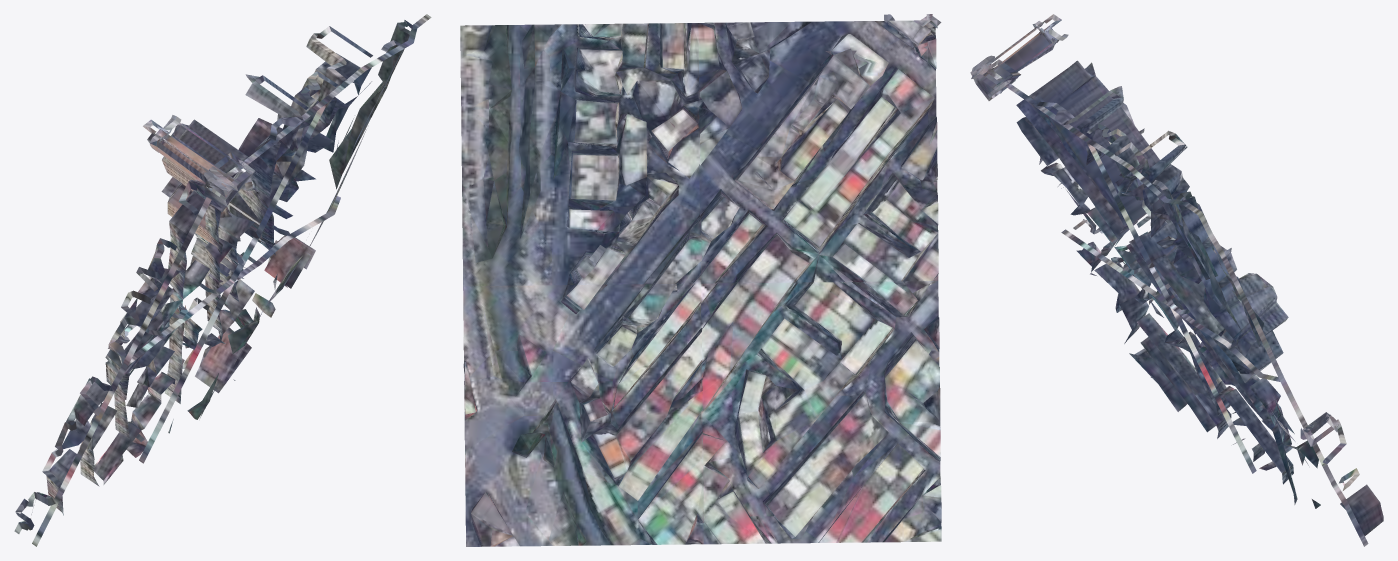
3 renders of one model, left to right at view 1: azimuth 30°, elevation 25°; view 2: azimuth 150°, elevation 25°; view 3: azimuth 270°, elevation 25°, orthographic. The views are drawn at different scales.
Bounding box in the file's own units: 311 × 304 × 275.
1 material, 1 textured.
